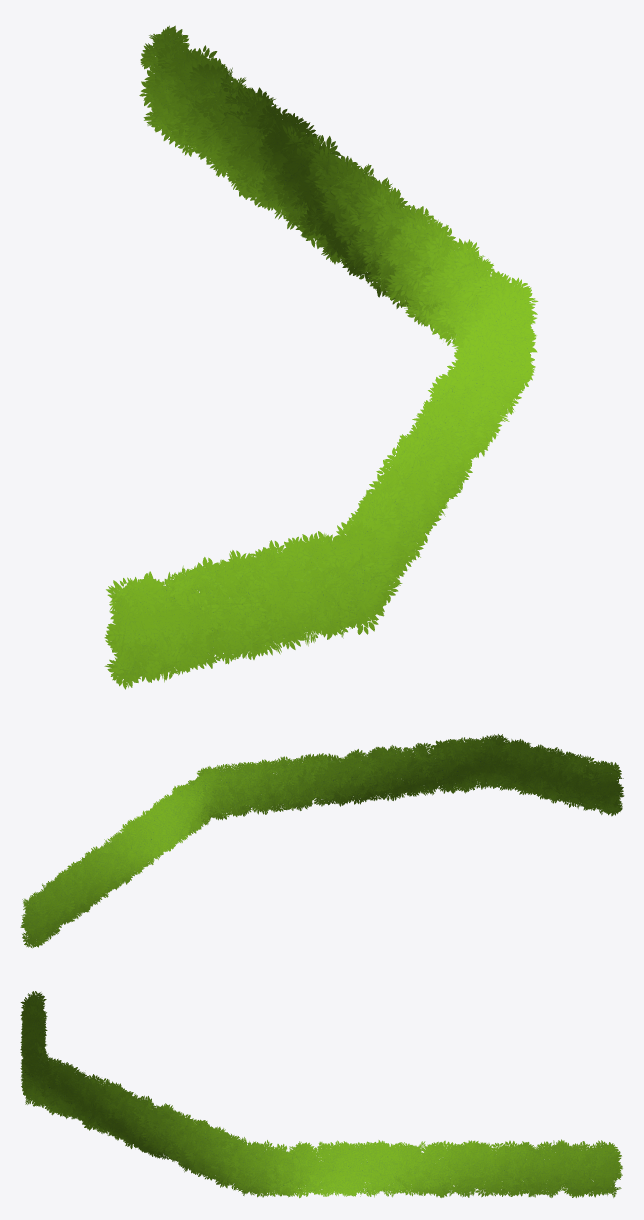
File: Hedge PLease i beg.fbx
3 views of the same model, one above another, from view 1: azimuth 30°, elevation 25°; view 2: azimuth 150°, elevation 25°; view 3: azimuth 270°, elevation 25° (orthographic). The views are drawn at different scales.
Parts seen in each view (by area): view 1: Plane.002; view 2: Plane.002; view 3: Plane.002.
Boxes of the visible parts, x1,y1,x2,y2 form: Plane.002: (104, 25, 538, 689); Plane.002: (20, 734, 624, 948); Plane.002: (20, 991, 622, 1198).
Bounding box in the file's own units: 2756 × 520 × 4319.
